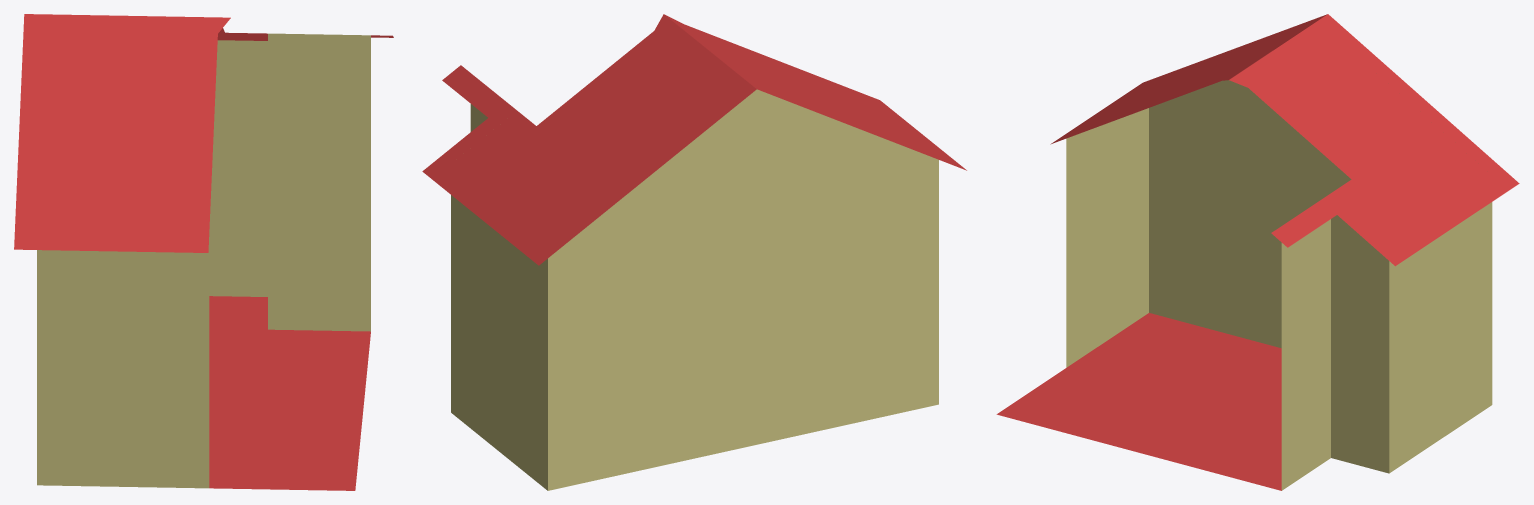
The picture shows the model from 3 angles, left to right: view 1: azimuth 30°, elevation 25°; view 2: azimuth 150°, elevation 25°; view 3: azimuth 270°, elevation 25°; orthographic projection. The views are drawn at different scales.
Size of the model in its own units: 12.1 by 13.31 by 9.46.
